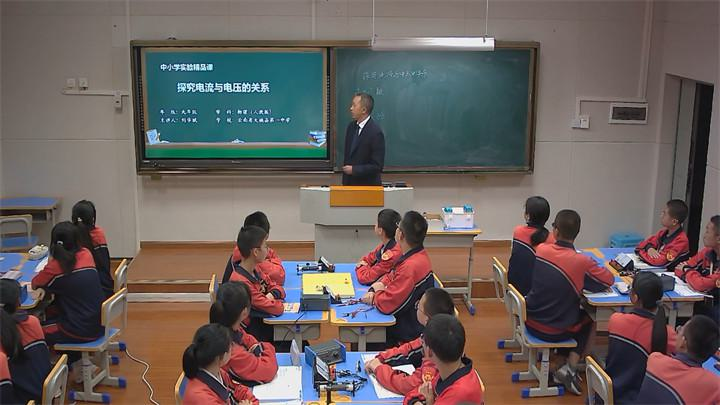listen: (410, 319, 469, 403), (182, 322, 241, 405), (47, 219, 93, 324), (623, 268, 665, 365), (637, 190, 690, 266), (548, 199, 588, 298), (391, 206, 432, 288), (232, 224, 275, 289)
